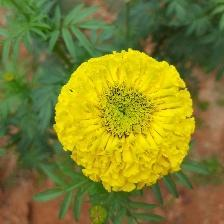marigold: (53, 48, 198, 194)
